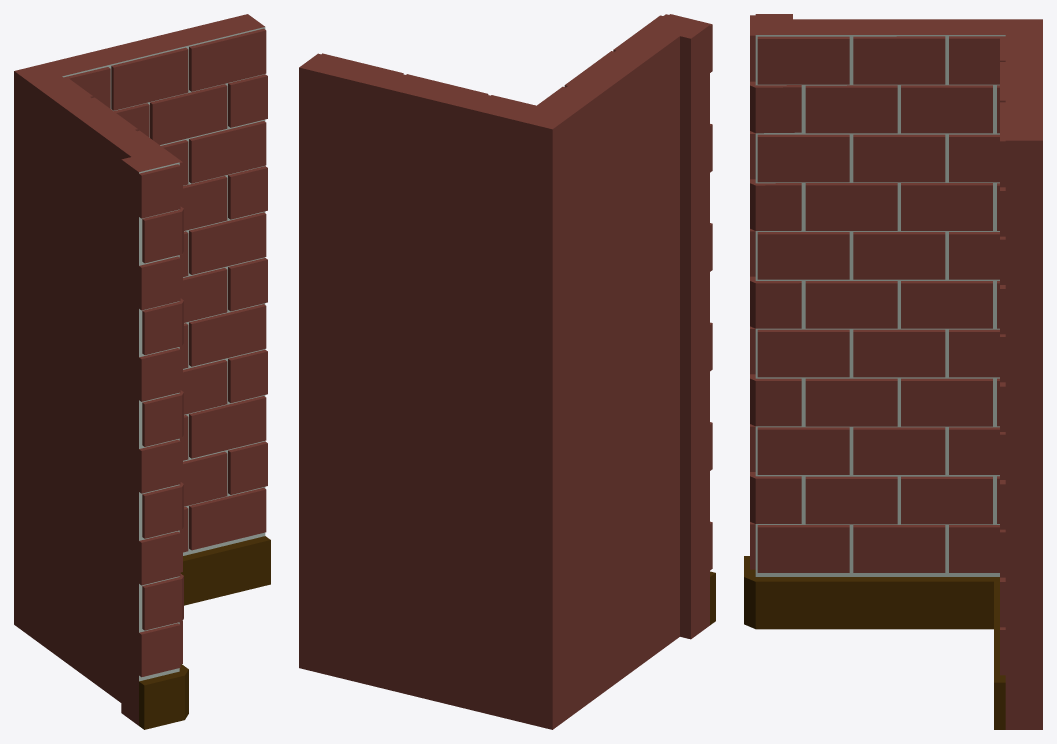
File: R_Wall_SideDoor_Corner_2.fbx
3 views of the same model, side by side, from view 1: azimuth 30°, elevation 25°; view 2: azimuth 150°, elevation 25°; view 3: azimuth 270°, elevation 25° (orthographic). The views are drawn at different scales.
Parts seen in each view (by area): view 1: R_Wall_SideDoor_Corner_2; view 2: R_Wall_SideDoor_Corner_2; view 3: R_Wall_SideDoor_Corner_2.
Part boxes in pixels (x1,y1,x2,y2): R_Wall_SideDoor_Corner_2: (14,14,270,729); R_Wall_SideDoor_Corner_2: (299,14,715,729); R_Wall_SideDoor_Corner_2: (744,14,1042,729).
Size of the model in its own units: 1044 by 1040 by 2264.
